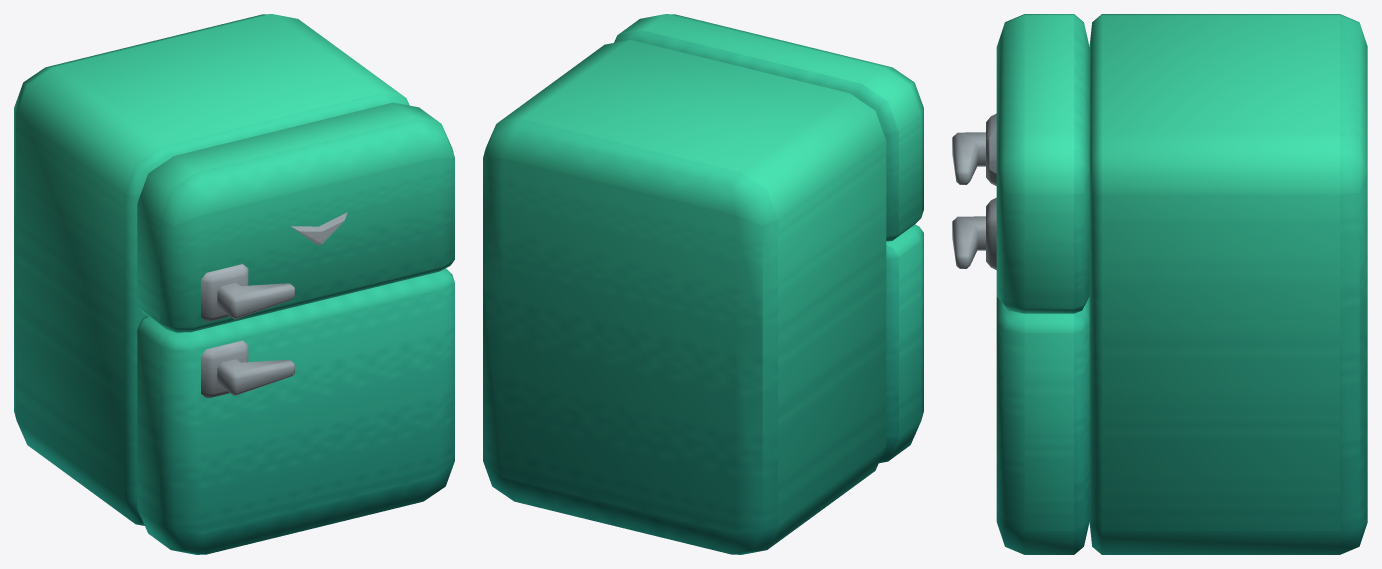
File: fridge_A.gltf
3 views of the same model, side by side, from view 1: azimuth 30°, elevation 25°; view 2: azimuth 150°, elevation 25°; view 3: azimuth 270°, elevation 25° (orthographic). The views are drawn at different scales.
Visible parts, largest first — view 1: fridge_A, fridge_A_door_bottom, fridge_A_door_top; view 2: fridge_A, fridge_A_door_top, fridge_A_door_bottom; view 3: fridge_A, fridge_A_door_top, fridge_A_door_bottom.
Part boxes in pixels (<box>): fridge_A: <box>14,14,409,525</box>; fridge_A_door_bottom: <box>137,268,454,554</box>; fridge_A_door_top: <box>137,102,454,332</box>; fridge_A: <box>483,39,886,554</box>; fridge_A_door_top: <box>614,14,923,241</box>; fridge_A_door_bottom: <box>879,224,923,463</box>; fridge_A: <box>1089,14,1367,554</box>; fridge_A_door_top: <box>952,14,1089,313</box>; fridge_A_door_bottom: <box>952,197,1089,554</box>.
Bounding box in the file's own units: 2 × 2.5 × 2.24.
1 material, 1 textured.
